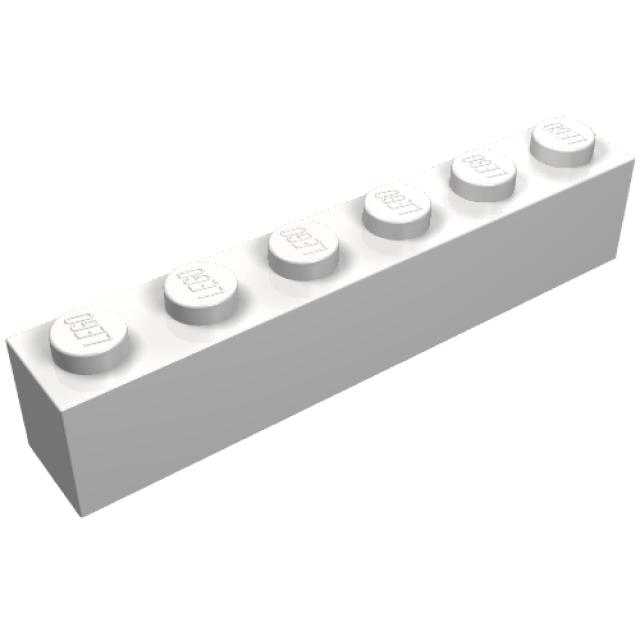White_Large: (3, 111, 640, 520)
